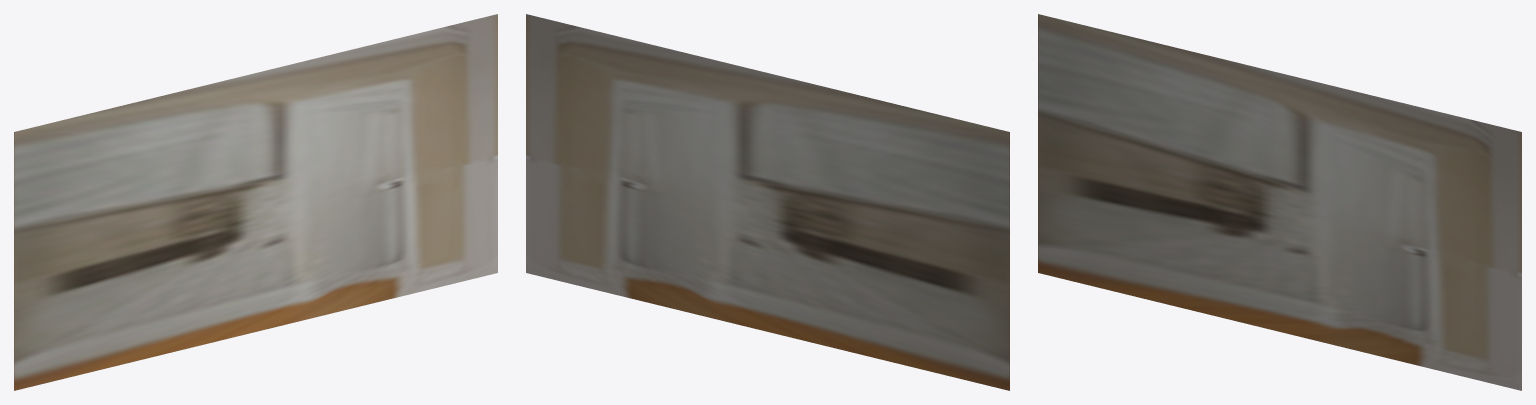
The model's file is wall.005.obj.
3 renders of one model, left to right at view 1: azimuth 30°, elevation 25°; view 2: azimuth 150°, elevation 25°; view 3: azimuth 330°, elevation 25°, orthographic.
Parts seen in each view (by area): view 1: wall.005; view 2: wall.005; view 3: wall.005.
Boxes of the visible parts, x1=… form: wall.005: x1=14, y1=14, x2=497, y2=390; wall.005: x1=526, y1=14, x2=1009, y2=390; wall.005: x1=1038, y1=14, x2=1521, y2=390.
Size of the model in its own units: 147 by 75.02 by 1.91e-05.
